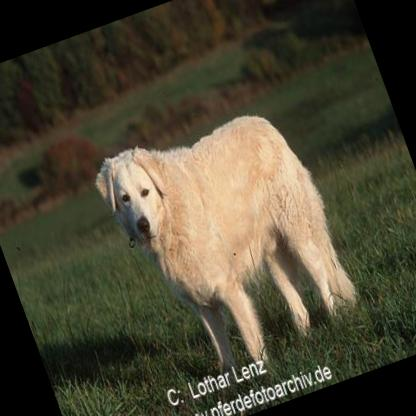kuvasz: (86, 89, 364, 390)
